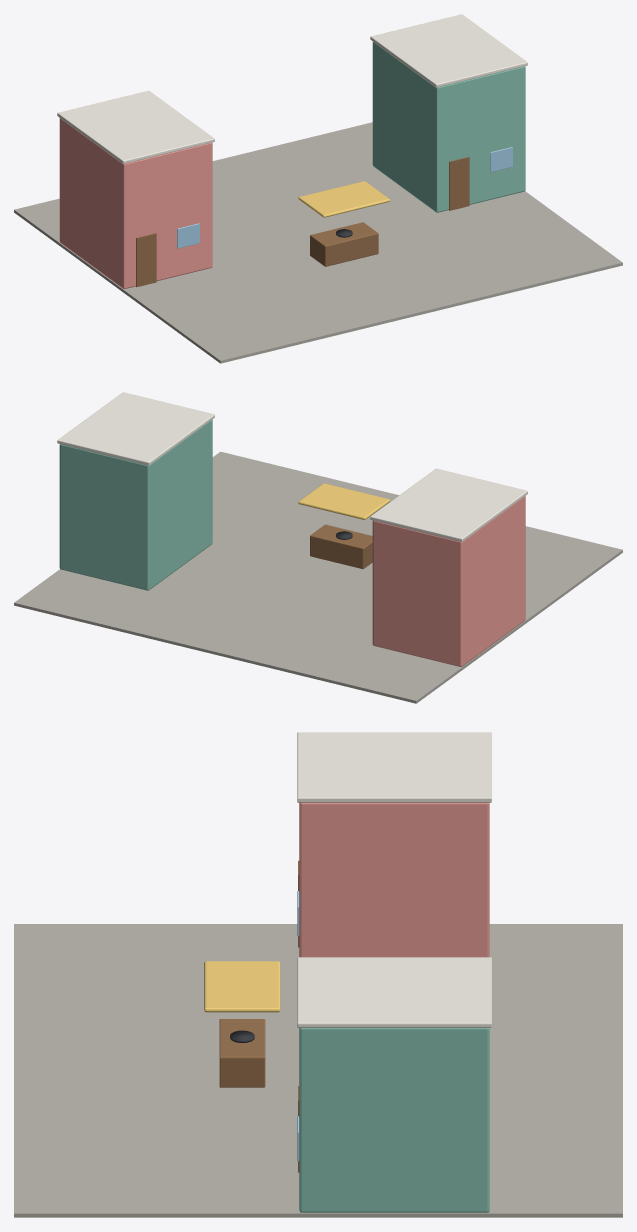
Rendered from BiffSquareStall_blockout.glb.
The picture shows the model from 3 angles, top to bottom: view 1: azimuth 30°, elevation 25°; view 2: azimuth 150°, elevation 25°; view 3: azimuth 270°, elevation 25°; orthographic projection. The views are drawn at different scales.
Parts seen in each view (by area): view 1: ENV04_BiffSquareStall_Paving_L0, ENV04_BiffSquareStall_Shop1Wall_L0, ENV04_BiffSquareStall_Shop0Wall_L0, ENV04_BiffSquareStall_Shop1Roof_L0, ENV04_BiffSquareStall_Shop0Roof_L0, ENV04_BiffSquareStall_Stall_L0, ENV04_BiffSquareStall_Awning_L0, ENV04_BiffSquareStall_Shop0Door_L0, ENV04_BiffSquareStall_Shop1Door_L0, ENV04_BiffSquareStall_Shop1Window_L0; view 2: ENV04_BiffSquareStall_Paving_L0, ENV04_BiffSquareStall_Shop1Wall_L0, ENV04_BiffSquareStall_Shop0Wall_L0, ENV04_BiffSquareStall_Shop0Roof_L0, ENV04_BiffSquareStall_Shop1Roof_L0, ENV04_BiffSquareStall_Stall_L0, ENV04_BiffSquareStall_Awning_L0; view 3: ENV04_BiffSquareStall_Paving_L0, ENV04_BiffSquareStall_Shop1Wall_L0, ENV04_BiffSquareStall_Shop0Wall_L0, ENV04_BiffSquareStall_Shop0Roof_L0, ENV04_BiffSquareStall_Shop1Roof_L0, ENV04_BiffSquareStall_Awning_L0, ENV04_BiffSquareStall_Stall_L0.
Boxes of the visible parts, x1,y1,x2,y2 form: ENV04_BiffSquareStall_Paving_L0: [14, 122, 622, 363]; ENV04_BiffSquareStall_Shop1Wall_L0: [372, 42, 525, 212]; ENV04_BiffSquareStall_Shop0Wall_L0: [59, 118, 212, 288]; ENV04_BiffSquareStall_Shop1Roof_L0: [370, 14, 527, 87]; ENV04_BiffSquareStall_Shop0Roof_L0: [57, 90, 214, 163]; ENV04_BiffSquareStall_Stall_L0: [310, 222, 378, 266]; ENV04_BiffSquareStall_Awning_L0: [298, 181, 390, 217]; ENV04_BiffSquareStall_Shop0Door_L0: [136, 233, 156, 287]; ENV04_BiffSquareStall_Shop1Door_L0: [449, 157, 469, 210]; ENV04_BiffSquareStall_Shop1Window_L0: [490, 147, 512, 172]; ENV04_BiffSquareStall_Paving_L0: [14, 451, 622, 703]; ENV04_BiffSquareStall_Shop1Wall_L0: [59, 419, 212, 590]; ENV04_BiffSquareStall_Shop0Wall_L0: [372, 496, 525, 666]; ENV04_BiffSquareStall_Shop0Roof_L0: [370, 468, 527, 541]; ENV04_BiffSquareStall_Shop1Roof_L0: [57, 392, 214, 465]; ENV04_BiffSquareStall_Stall_L0: [310, 524, 372, 568]; ENV04_BiffSquareStall_Awning_L0: [298, 483, 390, 519]; ENV04_BiffSquareStall_Paving_L0: [14, 924, 622, 1217]; ENV04_BiffSquareStall_Shop1Wall_L0: [299, 1028, 489, 1212]; ENV04_BiffSquareStall_Shop0Wall_L0: [299, 802, 489, 957]; ENV04_BiffSquareStall_Shop0Roof_L0: [297, 732, 491, 802]; ENV04_BiffSquareStall_Shop1Roof_L0: [297, 957, 491, 1027]; ENV04_BiffSquareStall_Awning_L0: [204, 961, 280, 1012]; ENV04_BiffSquareStall_Stall_L0: [219, 1019, 265, 1087].
Size of the model in its own units: 18.12 by 5.67 by 16.
